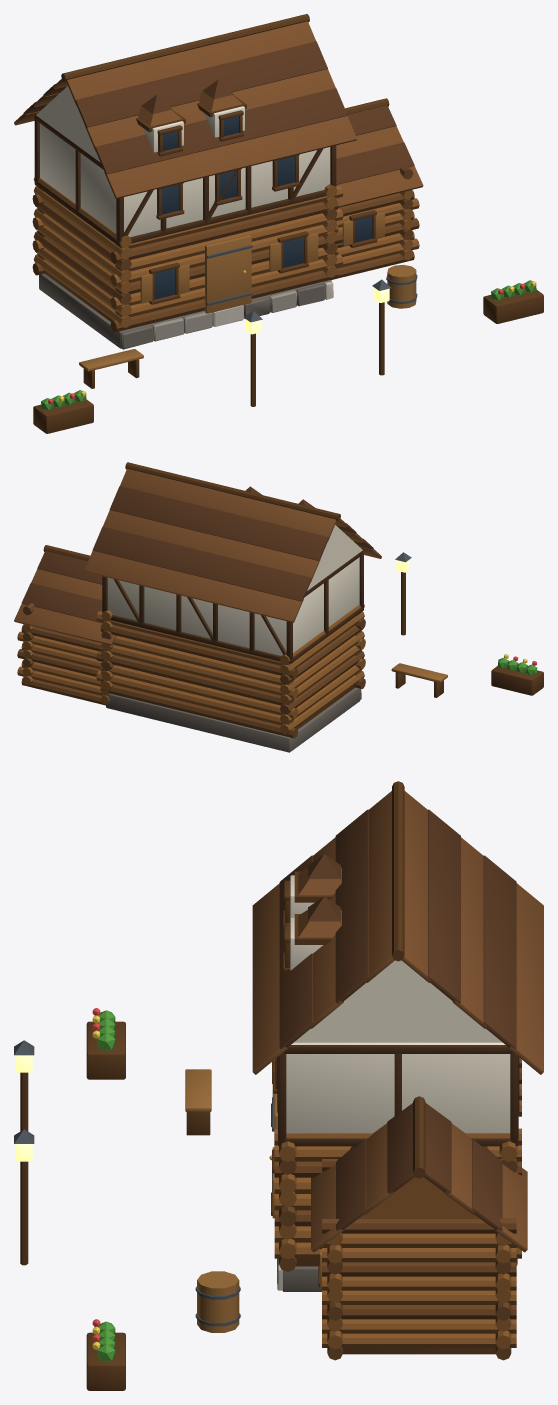
Rendered from budynek_glowny_poz08.glb.
The picture shows the model from 3 angles, top to bottom: view 1: azimuth 30°, elevation 25°; view 2: azimuth 150°, elevation 25°; view 3: azimuth 270°, elevation 25°; orthographic projection. The views are drawn at different scales.
Parts seen in each view (by area): view 1: budynek_glowny_poz08; view 2: budynek_glowny_poz08; view 3: budynek_glowny_poz08.
Part boxes in pixels (x1=…): budynek_glowny_poz08: x1=14, y1=14, x2=543, y2=433; budynek_glowny_poz08: x1=14, y1=462, x2=543, y2=752; budynek_glowny_poz08: x1=14, y1=781, x2=543, y2=1390.
Size of the model in its own units: 12.4 by 5.94 by 8.06.
